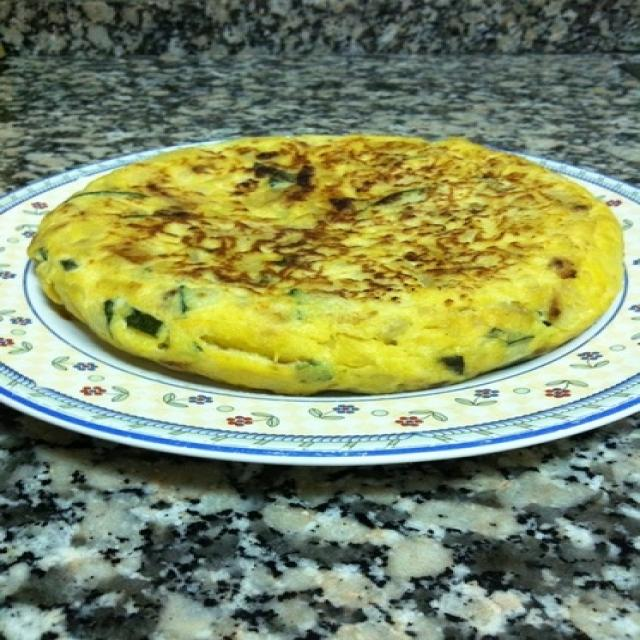面包点心: (19, 90, 607, 520)
